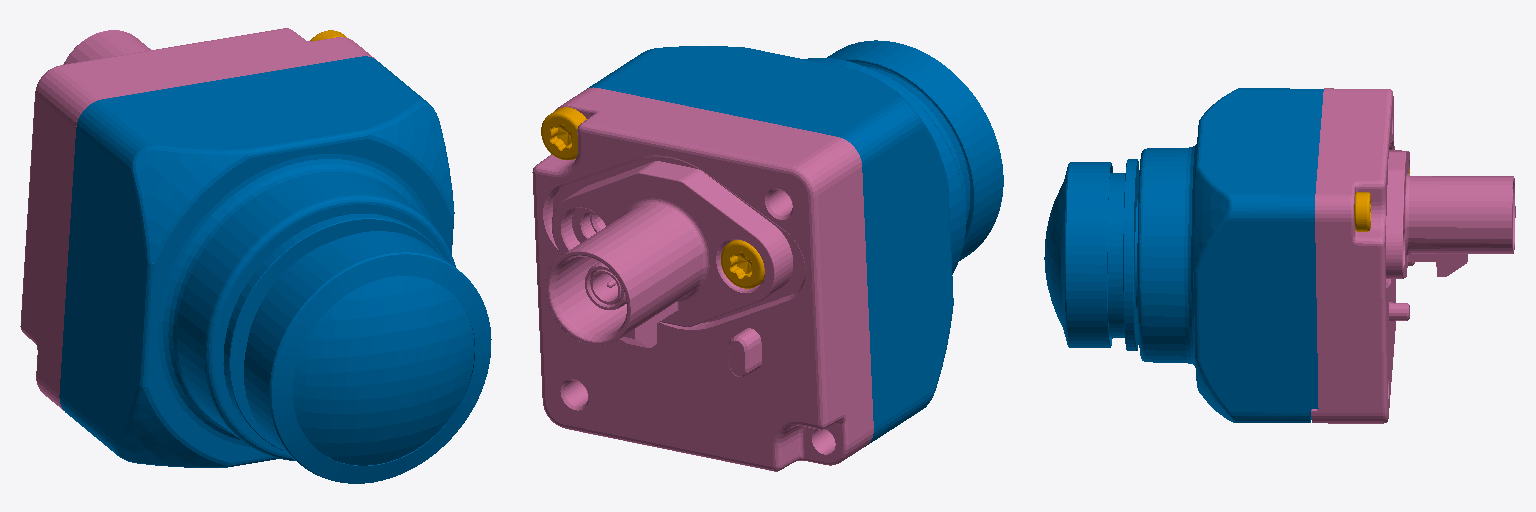
URDF robot description (SHF3L):
<?xml version="1.0"?>
<!-- Generated by usd2urdf.py from SHF3L.calibrated.acceptance.usd -->
<!-- metersPerUnit=0.01 upAxis=Z -->
<robot name="SHF3L">
  <link name="base_link">
  </link>
  <link name="Root">
  </link>
  <link name="SHF3L">
  </link>
  <link name="Top">
  </link>
  <link name="Mesh">
    <visual>
      <origin xyz="0 0 0" rpy="0 0 0"/>
      <geometry>
        <mesh filename="meshes/Mesh.stl"/>
      </geometry>
    </visual>
    <collision>
      <origin xyz="0 0 0" rpy="0 0 0"/>
      <geometry>
        <mesh filename="meshes/Mesh.stl"/>
      </geometry>
    </collision>
    <inertial>
      <origin xyz="0 0 0" rpy="0 0 0"/>
      <mass value="0.15"/>
      <inertia ixx="2.04211464e-05" ixy="0" ixz="0" iyy="2.01588669e-05" iyz="0" izz="2.207943e-05"/>
    </inertial>
  </link>
  <link name="Fakra">
  </link>
  <link name="Mesh_1">
    <visual>
      <origin xyz="0 0 0" rpy="0 0 0"/>
      <geometry>
        <mesh filename="meshes/Mesh_1.stl"/>
      </geometry>
    </visual>
    <collision>
      <origin xyz="0 0 0" rpy="0 0 0"/>
      <geometry>
        <mesh filename="meshes/Mesh_1.stl"/>
      </geometry>
    </collision>
    <inertial>
      <origin xyz="0 0 0" rpy="0 0 0"/>
      <mass value="0.15"/>
      <inertia ixx="6.64722838e-06" ixy="0" ixz="0" iyy="5.89528086e-06" iyz="0" izz="8.85194683e-06"/>
    </inertial>
  </link>
  <link name="Screw_00">
  </link>
  <link name="Mesh_2">
    <visual>
      <origin xyz="0 0 0" rpy="0 0 0"/>
      <geometry>
        <mesh filename="meshes/Mesh_2.stl"/>
      </geometry>
    </visual>
    <collision>
      <origin xyz="0 0 0" rpy="0 0 0"/>
      <geometry>
        <mesh filename="meshes/Mesh_2.stl"/>
      </geometry>
    </collision>
    <inertial>
      <origin xyz="0 0 0" rpy="0 0 0"/>
      <mass value="0.15"/>
      <inertia ixx="5.42178543e-07" ixy="0" ixz="0" iyy="6.59910469e-07" iyz="0" izz="7.21300971e-07"/>
    </inertial>
  </link>
  <link name="Screw_01">
  </link>
  <link name="Mesh_3">
    <visual>
      <origin xyz="0 0 0" rpy="0 0 0"/>
      <geometry>
        <mesh filename="meshes/Mesh_3.stl"/>
      </geometry>
    </visual>
    <collision>
      <origin xyz="0 0 0" rpy="0 0 0"/>
      <geometry>
        <mesh filename="meshes/Mesh_3.stl"/>
      </geometry>
    </collision>
    <inertial>
      <origin xyz="0 0 0" rpy="0 0 0"/>
      <mass value="0.15"/>
      <inertia ixx="5.42178543e-07" ixy="0" ixz="0" iyy="6.59910469e-07" iyz="0" izz="7.21300971e-07"/>
    </inertial>
  </link>
  <link name="Screw_02">
  </link>
  <link name="Mesh_4">
    <visual>
      <origin xyz="0 0 0" rpy="0 0 0"/>
      <geometry>
        <mesh filename="meshes/Mesh_4.stl"/>
      </geometry>
    </visual>
    <collision>
      <origin xyz="0 0 0" rpy="0 0 0"/>
      <geometry>
        <mesh filename="meshes/Mesh_4.stl"/>
      </geometry>
    </collision>
    <inertial>
      <origin xyz="0 0 0" rpy="0 0 0"/>
      <mass value="0.15"/>
      <inertia ixx="6.47664135e-07" ixy="0" ixz="0" iyy="8.3604456e-07" iyz="0" izz="9.22310288e-07"/>
    </inertial>
  </link>
  <link name="Bottom">
  </link>
  <link name="Mesh_5">
    <visual>
      <origin xyz="0 0 0" rpy="0 0 0"/>
      <geometry>
        <mesh filename="meshes/Mesh_5.stl"/>
      </geometry>
    </visual>
    <collision>
      <origin xyz="0 0 0" rpy="0 0 0"/>
      <geometry>
        <mesh filename="meshes/Mesh_5.stl"/>
      </geometry>
    </collision>
    <inertial>
      <origin xyz="0 0 0" rpy="0 0 0"/>
      <mass value="0.15"/>
      <inertia ixx="8.9170002e-06" ixy="0" ixz="0" iyy="1.56250005e-05" iyz="0" izz="8.9170002e-06"/>
    </inertial>
  </link>
  <link name="Screw_03">
  </link>
  <link name="Mesh_6">
    <visual>
      <origin xyz="0 0 0" rpy="0 0 0"/>
      <geometry>
        <mesh filename="meshes/Mesh_6.stl"/>
      </geometry>
    </visual>
    <collision>
      <origin xyz="0 0 0" rpy="0 0 0"/>
      <geometry>
        <mesh filename="meshes/Mesh_6.stl"/>
      </geometry>
    </collision>
    <inertial>
      <origin xyz="0 0 0" rpy="0 0 0"/>
      <mass value="0.15"/>
      <inertia ixx="6.47664135e-07" ixy="0" ixz="0" iyy="8.3604456e-07" iyz="0" izz="9.22310288e-07"/>
    </inertial>
  </link>
  <link name="Screw_04">
  </link>
  <link name="Mesh_7">
    <visual>
      <origin xyz="0 0 0" rpy="0 0 0"/>
      <geometry>
        <mesh filename="meshes/Mesh_7.stl"/>
      </geometry>
    </visual>
    <collision>
      <origin xyz="0 0 0" rpy="0 0 0"/>
      <geometry>
        <mesh filename="meshes/Mesh_7.stl"/>
      </geometry>
    </collision>
    <inertial>
      <origin xyz="0 0 0" rpy="0 0 0"/>
      <mass value="0.15"/>
      <inertia ixx="6.47664135e-07" ixy="0" ixz="0" iyy="8.3604456e-07" iyz="0" izz="9.22310288e-07"/>
    </inertial>
  </link>
  <link name="Screw_05">
  </link>
  <link name="Mesh_8">
    <visual>
      <origin xyz="0 0 0" rpy="0 0 0"/>
      <geometry>
        <mesh filename="meshes/Mesh_8.stl"/>
      </geometry>
    </visual>
    <collision>
      <origin xyz="0 0 0" rpy="0 0 0"/>
      <geometry>
        <mesh filename="meshes/Mesh_8.stl"/>
      </geometry>
    </collision>
    <inertial>
      <origin xyz="0 0 0" rpy="0 0 0"/>
      <mass value="0.15"/>
      <inertia ixx="6.47664135e-07" ixy="0" ixz="0" iyy="8.3604456e-07" iyz="0" izz="9.22310288e-07"/>
    </inertial>
  </link>
  <link name="SealRing">
  </link>
  <link name="Mesh_9">
    <visual>
      <origin xyz="0 0 0" rpy="0 0 0"/>
      <geometry>
        <mesh filename="meshes/Mesh_9.stl"/>
      </geometry>
    </visual>
    <collision>
      <origin xyz="0 0 0" rpy="0 0 0"/>
      <geometry>
        <mesh filename="meshes/Mesh_9.stl"/>
      </geometry>
    </collision>
    <inertial>
      <origin xyz="0 0 0" rpy="0 0 0"/>
      <mass value="0.15"/>
      <inertia ixx="1.16932262e-05" ixy="0" ixz="0" iyy="9.25221413e-06" iyz="0" izz="8.99169368e-06"/>
    </inertial>
  </link>
  <link name="MainBoard">
  </link>
  <link name="Mesh_10">
    <visual>
      <origin xyz="0 0 0" rpy="0 0 0"/>
      <geometry>
        <mesh filename="meshes/Mesh_10.stl"/>
      </geometry>
    </visual>
    <collision>
      <origin xyz="0 0 0" rpy="0 0 0"/>
      <geometry>
        <mesh filename="meshes/Mesh_10.stl"/>
      </geometry>
    </collision>
    <inertial>
      <origin xyz="0 0 0" rpy="0 0 0"/>
      <mass value="0.15"/>
      <inertia ixx="5.03877303e-06" ixy="0" ixz="0" iyy="5.03877303e-06" iyz="0" izz="1.00134654e-05"/>
    </inertial>
  </link>
  <link name="Fakra_01">
  </link>
  <link name="Mesh_11">
    <visual>
      <origin xyz="0 0 0" rpy="0 0 0"/>
      <geometry>
        <mesh filename="meshes/Mesh_11.stl"/>
      </geometry>
    </visual>
    <collision>
      <origin xyz="0 0 0" rpy="0 0 0"/>
      <geometry>
        <mesh filename="meshes/Mesh_11.stl"/>
      </geometry>
    </collision>
    <inertial>
      <origin xyz="0 0 0" rpy="0 0 0"/>
      <mass value="0.15"/>
      <inertia ixx="8.35274598e-07" ixy="0" ixz="0" iyy="9.47521444e-07" iyz="0" izz="6.43733482e-07"/>
    </inertial>
  </link>
  <link name="Lens">
  </link>
  <link name="Mesh_12">
    <visual>
      <origin xyz="0 0 0" rpy="0 0 0"/>
      <geometry>
        <mesh filename="meshes/Mesh_12.stl"/>
      </geometry>
    </visual>
    <collision>
      <origin xyz="0 0 0" rpy="0 0 0"/>
      <geometry>
        <mesh filename="meshes/Mesh_12.stl"/>
      </geometry>
    </collision>
    <inertial>
      <origin xyz="0 0 0" rpy="0 0 0"/>
      <mass value="0.15"/>
      <inertia ixx="8.64900006e-06" ixy="0" ixz="0" iyy="7.4437741e-06" iyz="0" izz="7.4437741e-06"/>
    </inertial>
  </link>
  <link name="Camera">
  </link>
  <link name="SHF3L_lens_0">
  </link>
  <joint name="base_link_to_Root" type="fixed">
    <parent link="base_link"/>
    <child link="Root"/>
    <origin xyz="0 0 0" rpy="0 0 0"/>
  </joint>
  <joint name="Root_to_SHF3L" type="fixed">
    <parent link="Root"/>
    <child link="SHF3L"/>
    <origin xyz="3 0 0" rpy="0 0 0"/>
  </joint>
  <joint name="SHF3L_to_Top" type="fixed">
    <parent link="SHF3L"/>
    <child link="Top"/>
    <origin xyz="0.52429332 -1.58723911 -0.553984098" rpy="-0.201578481 -0.18268436 -0.971048569"/>
  </joint>
  <joint name="Top_to_Mesh" type="fixed">
    <parent link="Top"/>
    <child link="Mesh"/>
    <origin xyz="-1.05969568 -1.23905542 0.531962952" rpy="0 0 0"/>
  </joint>
  <joint name="SHF3L_to_Fakra" type="fixed">
    <parent link="SHF3L"/>
    <child link="Fakra"/>
    <origin xyz="-1.05620012 -1.21274395 0.0147464376" rpy="-3.08447937 -0.0139587502 1.5327332"/>
  </joint>
  <joint name="Fakra_to_Mesh_1" type="fixed">
    <parent link="Fakra"/>
    <child link="Mesh_1"/>
    <origin xyz="-0.00820000038 2.05039978e-08 0.000174999952" rpy="0 0 0"/>
  </joint>
  <joint name="SHF3L_to_Screw_00" type="fixed">
    <parent link="SHF3L"/>
    <child link="Screw_00"/>
    <origin xyz="-1.54589494 -0.836099934 -1.34869256" rpy="-0.243386706 -0.239652213 -1.027488"/>
  </joint>
  <joint name="Screw_00_to_Mesh_2" type="fixed">
    <parent link="Screw_00"/>
    <child link="Mesh_2"/>
    <origin xyz="0.888931152 -0.0797631531 1.20304401" rpy="0 0 0"/>
  </joint>
  <joint name="SHF3L_to_Screw_01" type="fixed">
    <parent link="SHF3L"/>
    <child link="Screw_01"/>
    <origin xyz="-1.53232654 -0.836605796 -1.3494688" rpy="-0.243386706 -0.239652213 -1.027488"/>
  </joint>
  <joint name="Screw_01_to_Mesh_3" type="fixed">
    <parent link="Screw_01"/>
    <child link="Mesh_3"/>
    <origin xyz="0.888931152 -0.0797631531 1.20304401" rpy="0 0 0"/>
  </joint>
  <joint name="SHF3L_to_Screw_02" type="fixed">
    <parent link="SHF3L"/>
    <child link="Screw_02"/>
    <origin xyz="-1.51959134 -0.839694954 -1.37439712" rpy="-0.223935474 -0.25198236 -1.03253631"/>
  </joint>
  <joint name="Screw_02_to_Mesh_4" type="fixed">
    <parent link="Screw_02"/>
    <child link="Mesh_4"/>
    <origin xyz="0.889367004 -0.0800167389 1.20286584" rpy="0 0 0"/>
  </joint>
  <joint name="SHF3L_to_Bottom" type="fixed">
    <parent link="SHF3L"/>
    <child link="Bottom"/>
    <origin xyz="-1.06001799 -1.22672621 0.00873136986" rpy="-3.12761111 0.0571077122 -0.0372650579"/>
  </joint>
  <joint name="Bottom_to_Mesh_5" type="fixed">
    <parent link="Bottom"/>
    <child link="Mesh_5"/>
    <origin xyz="0.00295990467 -0.000299999952 -0.00144538689" rpy="0 0 0"/>
  </joint>
  <joint name="SHF3L_to_Screw_03" type="fixed">
    <parent link="SHF3L"/>
    <child link="Screw_03"/>
    <origin xyz="-1.49745341 -0.840814114 -1.35463201" rpy="-0.223935474 -0.25198236 -1.03253631"/>
  </joint>
  <joint name="Screw_03_to_Mesh_6" type="fixed">
    <parent link="Screw_03"/>
    <child link="Mesh_6"/>
    <origin xyz="0.889367004 -0.0800167389 1.20286584" rpy="0 0 0"/>
  </joint>
  <joint name="SHF3L_to_Screw_04" type="fixed">
    <parent link="SHF3L"/>
    <child link="Screw_04"/>
    <origin xyz="-1.50104601 -0.845622292 -1.37319241" rpy="-0.223935474 -0.25198236 -1.03253631"/>
  </joint>
  <joint name="Screw_04_to_Mesh_7" type="fixed">
    <parent link="Screw_04"/>
    <child link="Mesh_7"/>
    <origin xyz="0.889367004 -0.0800167389 1.20286584" rpy="0 0 0"/>
  </joint>
  <joint name="SHF3L_to_Screw_05" type="fixed">
    <parent link="SHF3L"/>
    <child link="Screw_05"/>
    <origin xyz="-1.51638731 -0.845278387 -1.3559899" rpy="-0.223935474 -0.25198236 -1.03253631"/>
  </joint>
  <joint name="Screw_05_to_Mesh_8" type="fixed">
    <parent link="Screw_05"/>
    <child link="Mesh_8"/>
    <origin xyz="0.889367004 -0.0800167389 1.20286584" rpy="0 0 0"/>
  </joint>
  <joint name="SHF3L_to_SealRing" type="fixed">
    <parent link="SHF3L"/>
    <child link="SealRing"/>
    <origin xyz="0.52429332 -1.58723911 -0.553984098" rpy="-0.201578481 -0.18268436 -0.971048569"/>
  </joint>
  <joint name="SealRing_to_Mesh_9" type="fixed">
    <parent link="SealRing"/>
    <child link="Mesh_9"/>
    <origin xyz="-1.06633252 -1.23490479 0.534072601" rpy="0 0 0"/>
  </joint>
  <joint name="SHF3L_to_MainBoard" type="fixed">
    <parent link="SHF3L"/>
    <child link="MainBoard"/>
    <origin xyz="-1.05718563 -1.23195393 0.00992486564" rpy="1.58477485 0.0531971312 -0.0373198146"/>
  </joint>
  <joint name="MainBoard_to_Mesh_10" type="fixed">
    <parent link="MainBoard"/>
    <child link="Mesh_10"/>
    <origin xyz="0 0 0.00080050385" rpy="0 0 0"/>
  </joint>
  <joint name="SHF3L_to_Fakra_01" type="fixed">
    <parent link="SHF3L"/>
    <child link="Fakra_01"/>
    <origin xyz="-1.05755854 -1.24017177 0.00815420205" rpy="-1.82751731 1.51579493 2.84717995"/>
  </joint>
  <joint name="Fakra_01_to_Mesh_11" type="fixed">
    <parent link="Fakra_01"/>
    <child link="Mesh_11"/>
    <origin xyz="-0.00622000146 -0.000205399394 -0.011125" rpy="0 0 0"/>
  </joint>
  <joint name="SHF3L_to_Lens" type="fixed">
    <parent link="SHF3L"/>
    <child link="Lens"/>
    <origin xyz="-1.05814502 -1.2573764 0.00957994816" rpy="0.0570009059 -0.0139587501 1.5327332"/>
  </joint>
  <joint name="Lens_to_Mesh_12" type="fixed">
    <parent link="Lens"/>
    <child link="Mesh_12"/>
    <origin xyz="0.00789844847 0 0" rpy="0 0 0"/>
  </joint>
  <joint name="Mesh_12_to_Camera" type="fixed">
    <parent link="Mesh_12"/>
    <child link="Camera"/>
    <origin xyz="-0.00792213981 0.000111770174 -6.33899169e-06" rpy="1.58544924 0 1.59717174"/>
  </joint>
  <joint name="SHF3L_to_SHF3L_lens_0" type="fixed">
    <parent link="SHF3L"/>
    <child link="SHF3L_lens_0"/>
    <origin xyz="-1.05825779 -1.25739582 0.00957965632" rpy="-1.57162456 -0.056606794 3.13074118"/>
  </joint>
</robot>

--- Render facts (derived) ---
3 views of the same robot in one strip: view 1: azimuth 30°, elevation 25°; view 2: azimuth 150°, elevation 25°; view 3: azimuth 270°, elevation 25° (orthographic).
Robot: SHF3L — 31 links, 30 joints (30 fixed); root link base_link; default pose: every joint at zero.
Links seen in each view (by area): view 1: Mesh, Mesh_12, Mesh_5, Mesh_1; view 2: Mesh_5, Mesh, Mesh_1, Mesh_12, Mesh_6, Mesh_2; view 3: Mesh, Mesh_5, Mesh_12, Mesh_1, Mesh_6.
Link boxes in pixels (box(x1,y1,x2,y2)): Mesh: box(59, 56, 455, 467); Mesh_12: box(223, 214, 491, 483); Mesh_5: box(20, 28, 374, 410); Mesh_1: box(63, 30, 150, 64); Mesh_5: box(532, 87, 873, 471); Mesh: box(587, 46, 965, 446); Mesh_1: box(546, 161, 792, 347); Mesh_12: box(827, 40, 1003, 260); Mesh_6: box(541, 107, 586, 159); Mesh_2: box(721, 240, 764, 288); Mesh: box(1137, 88, 1323, 422); Mesh_5: box(1311, 88, 1414, 423); Mesh_12: box(1044, 159, 1139, 350); Mesh_1: box(1386, 150, 1515, 278); Mesh_6: box(1354, 192, 1370, 231).
Bounding box of the posed robot: 0.0266 × 0.0456 × 0.0264 m (x, y, z).
Meshes: 13 distinct files referenced, 9 mesh visuals loaded (9 binary STL); not drawn: 4 (reference not matched to a file when rendering).
